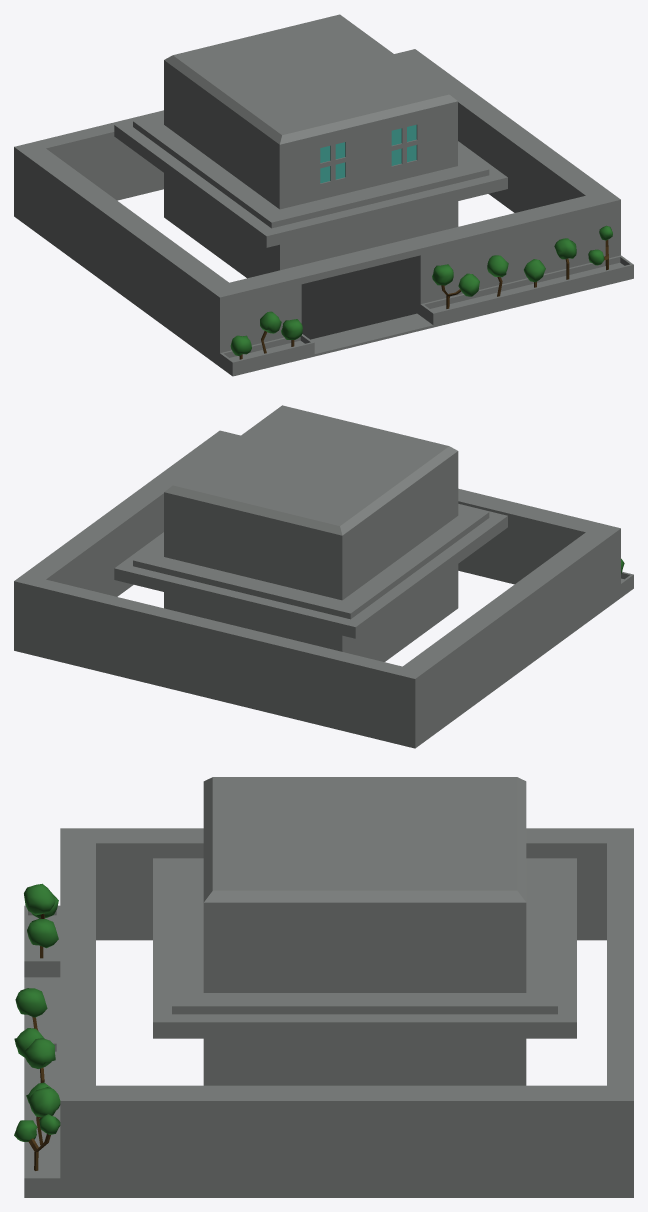
The model's file is NovosModelosTI2.fbx_WideWallHouse.fbx.
3 views of the same model, one above another, from view 1: azimuth 30°, elevation 25°; view 2: azimuth 150°, elevation 25°; view 3: azimuth 270°, elevation 25° (orthographic). The views are drawn at different scales.
Parts seen in each view (by area): view 1: WideWallHouse; view 2: WideWallHouse; view 3: WideWallHouse.
Part boxes in pixels (left/top/right/bottom): WideWallHouse: left=14, top=14, right=633, bottom=376; WideWallHouse: left=14, top=405, right=633, bottom=748; WideWallHouse: left=14, top=777, right=633, bottom=1197.
Size of the model in its own units: 1800 by 700 by 1729.
